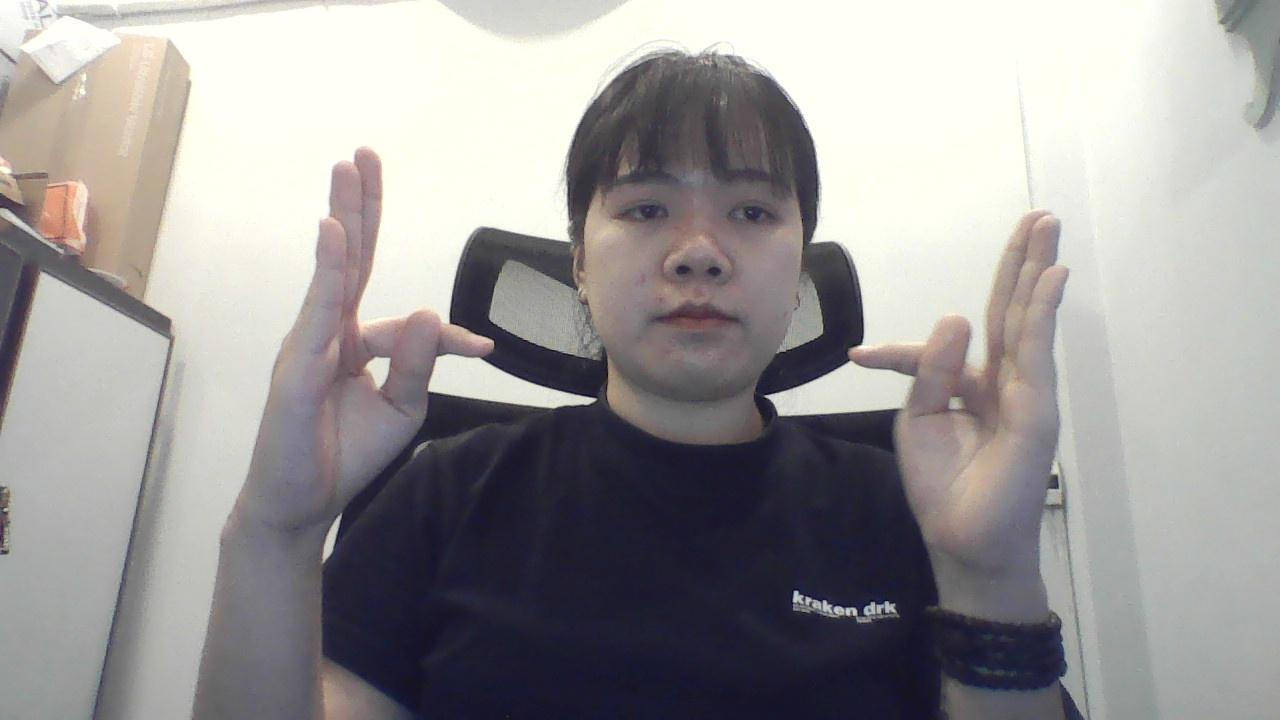T: (844, 202, 1085, 599), (254, 142, 501, 524)
